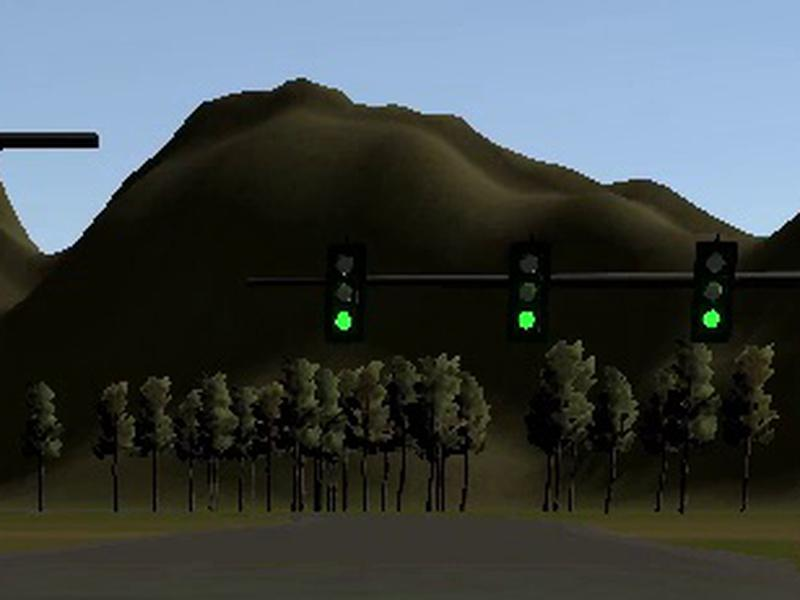Green: (688, 241, 738, 343), (506, 240, 549, 340), (325, 242, 365, 344)
